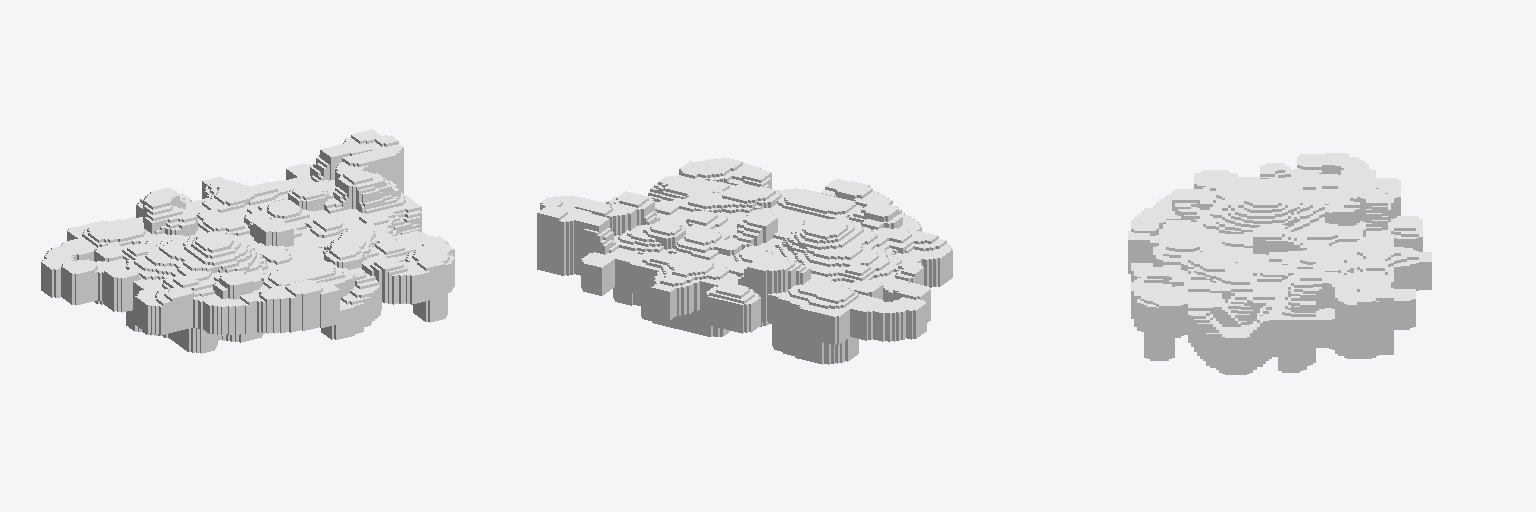
The model's file is Level04-0.obj.
3 views of the same model, side by side, from view 1: azimuth 30°, elevation 25°; view 2: azimuth 150°, elevation 25°; view 3: azimuth 270°, elevation 25° (orthographic).
Visible parts, largest first — view 1: object 1; view 2: object 1; view 3: object 1.
Boxes of the visible parts, box(x1,y1,x2,y2) form: object 1: box(41, 129, 454, 353); object 1: box(537, 157, 952, 364); object 1: box(1128, 153, 1431, 374).
Bounding box in the file's own units: 13.4 × 3 × 9.7.